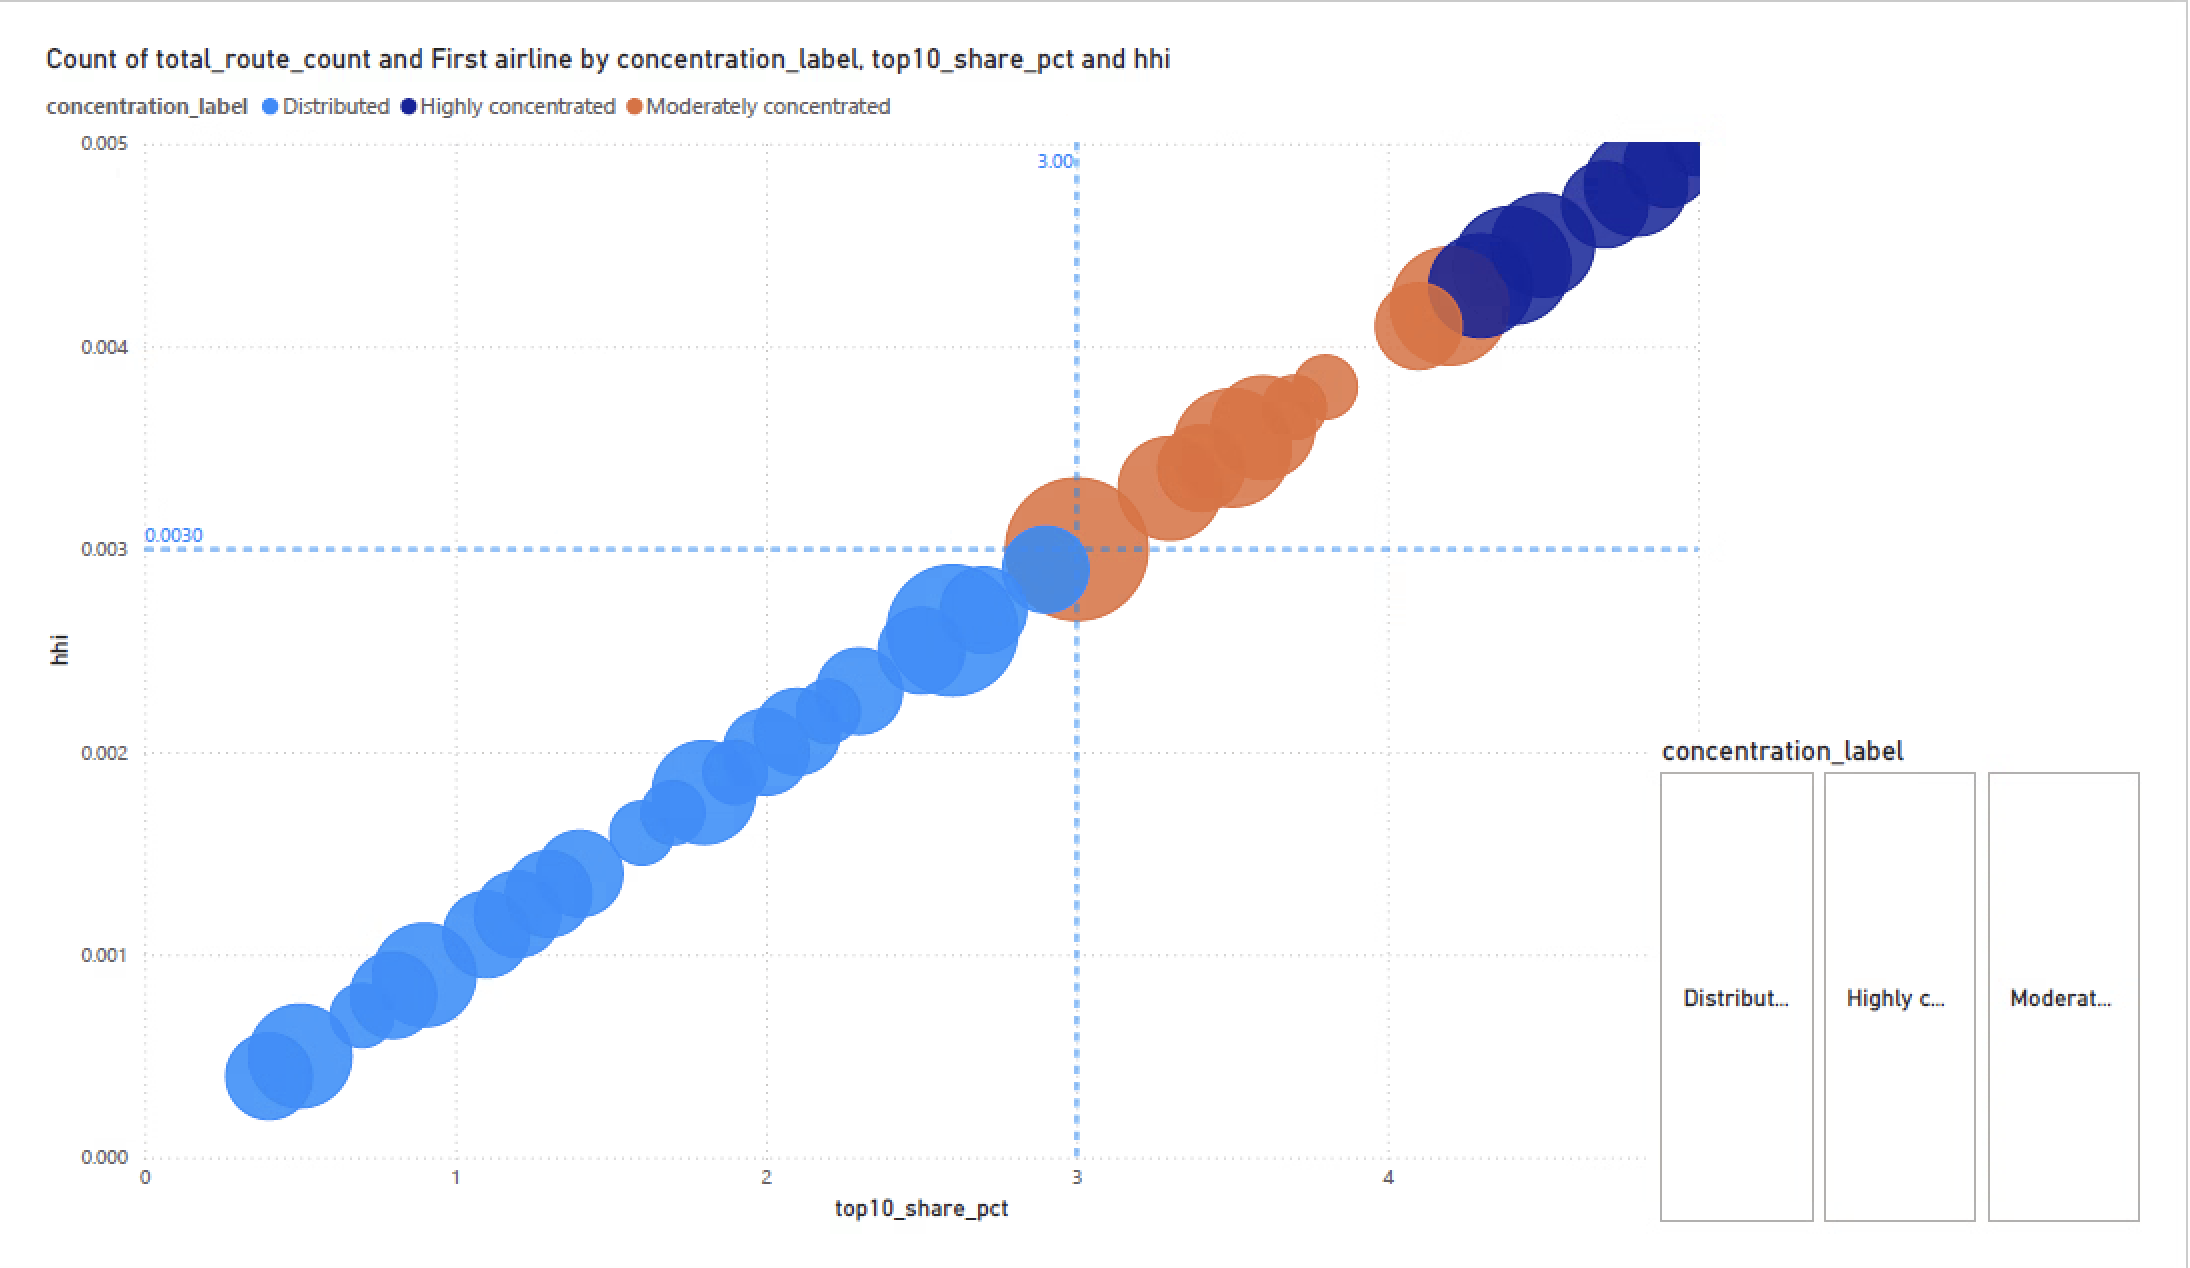

Layout of this report page (visuals, bound fields, positions):
{"tool":"powerbi","page":{"name":"Page 2","canvas":[1280,720],"ordinal":1},"visuals":[{"type":"scatterChart","fields":{"X":["airline_network_concentration.top10_share_pct"],"Y":["airline_network_concentration.hhi"],"Series":["airline_network_concentration.airline"],"Size":["Sum(airline_network_concentration.total_route_count)"]},"box":[9.9,0,1270.1,720.4],"z":0}]}

Visuals, with their boxes in screenshot pixels (x1, y1, x2, y2), scaled from the page's 1280x720 canvas onto the 2190x1268 screenshot:
scatterChart - airline_network_concentration.top10_share_pct x airline_network_concentration.hhi: bbox=[17, 0, 2189, 1267]
